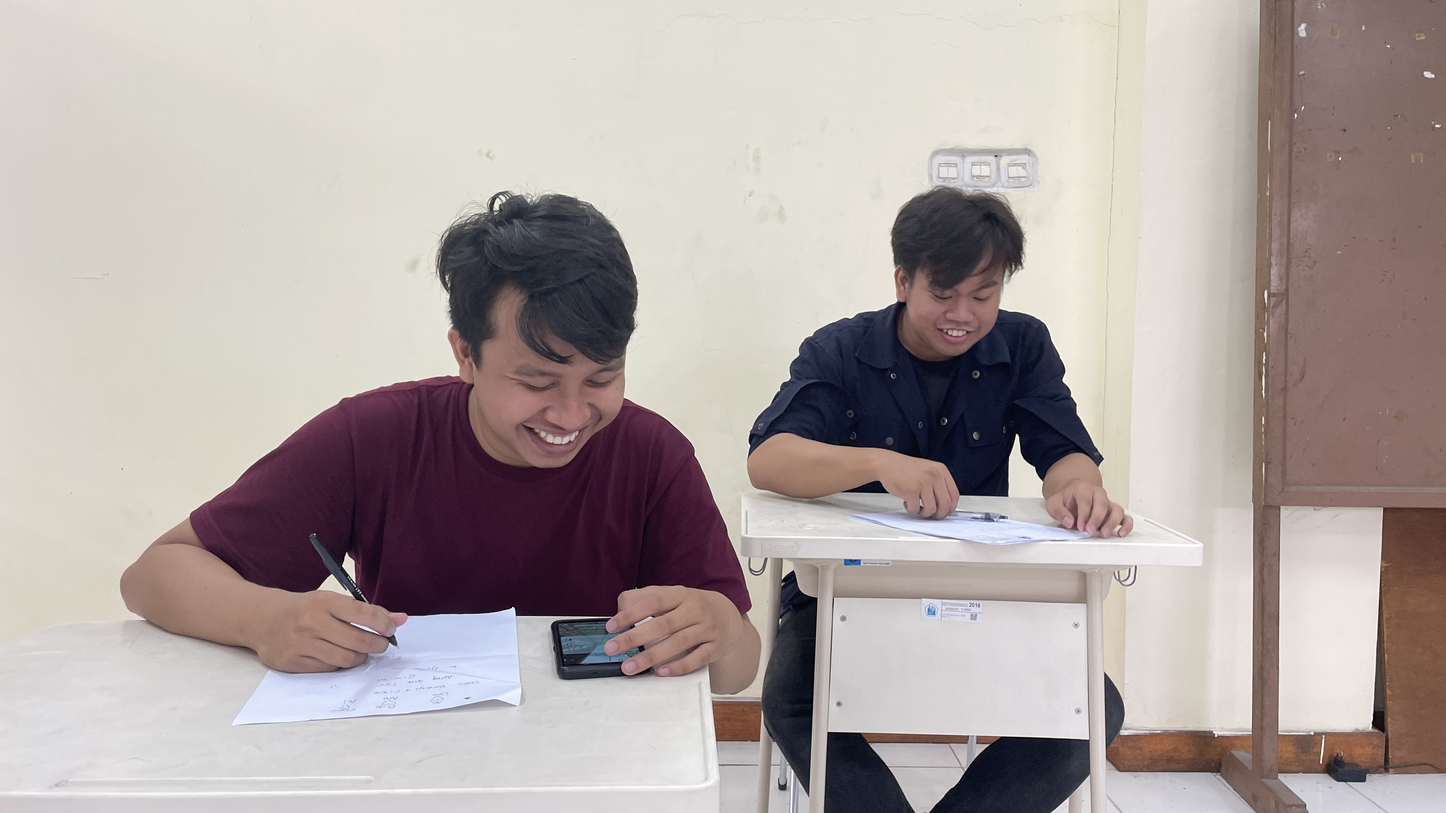phone: (549, 616, 644, 686)
